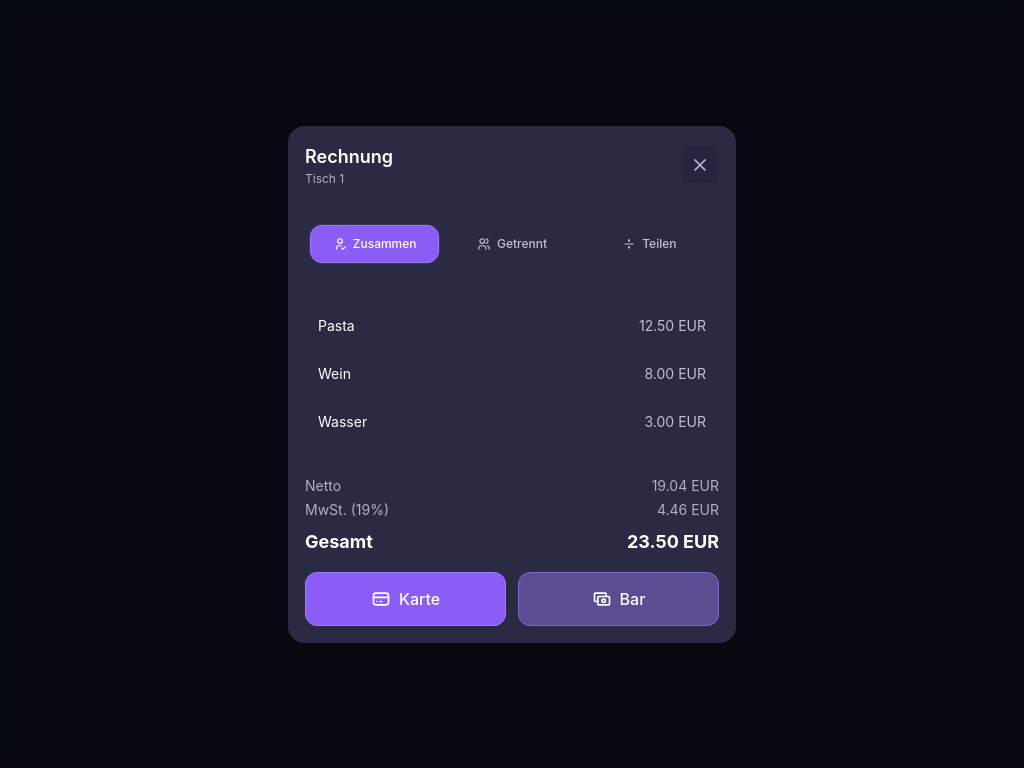
Test: Scenario 2 — Equal-split billing (2×11.75, mixed methods → close) › person 1 card + person 2 cash → "Alle bezahlt" screen
Expected: the text "23.50 EUR" is shown, [627,528,719,556]
What coordinates should you click on to do the following:
click the button "Teilen"
I would click on:
 (649, 244)
Its box is [585,224,714,262].
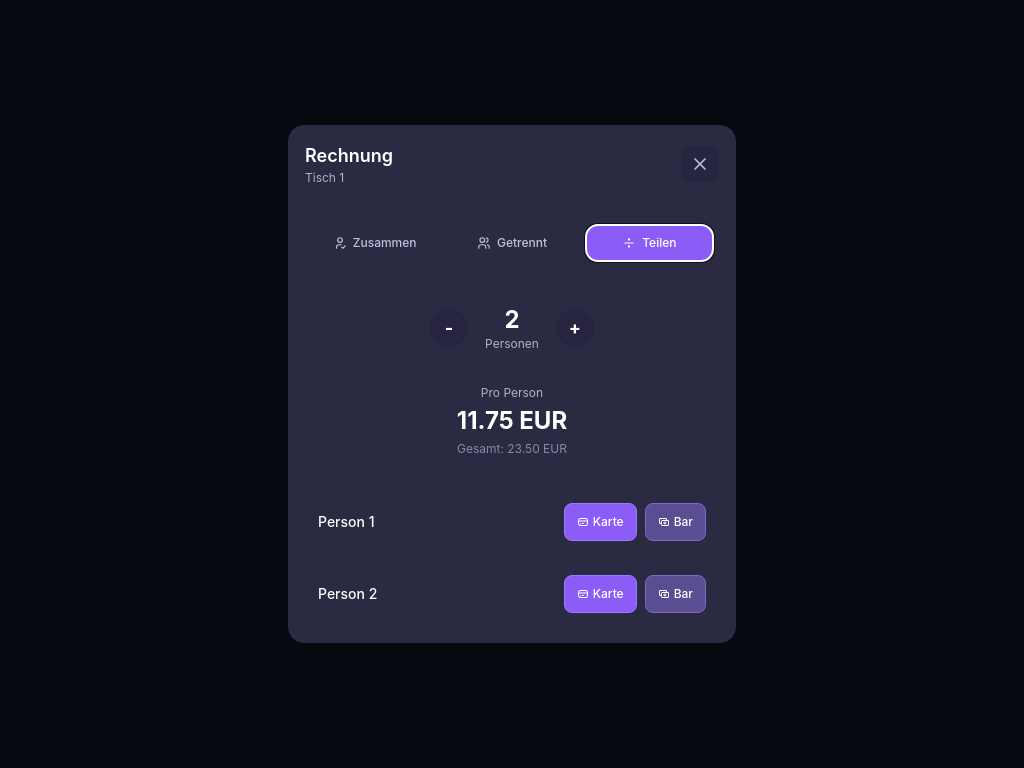
// Pay person 1 with card
What coordinates should you click on to do the following:
click the 1st button "Karte"
I would click on:
 (600, 522)
Its box is [564,503,637,541].
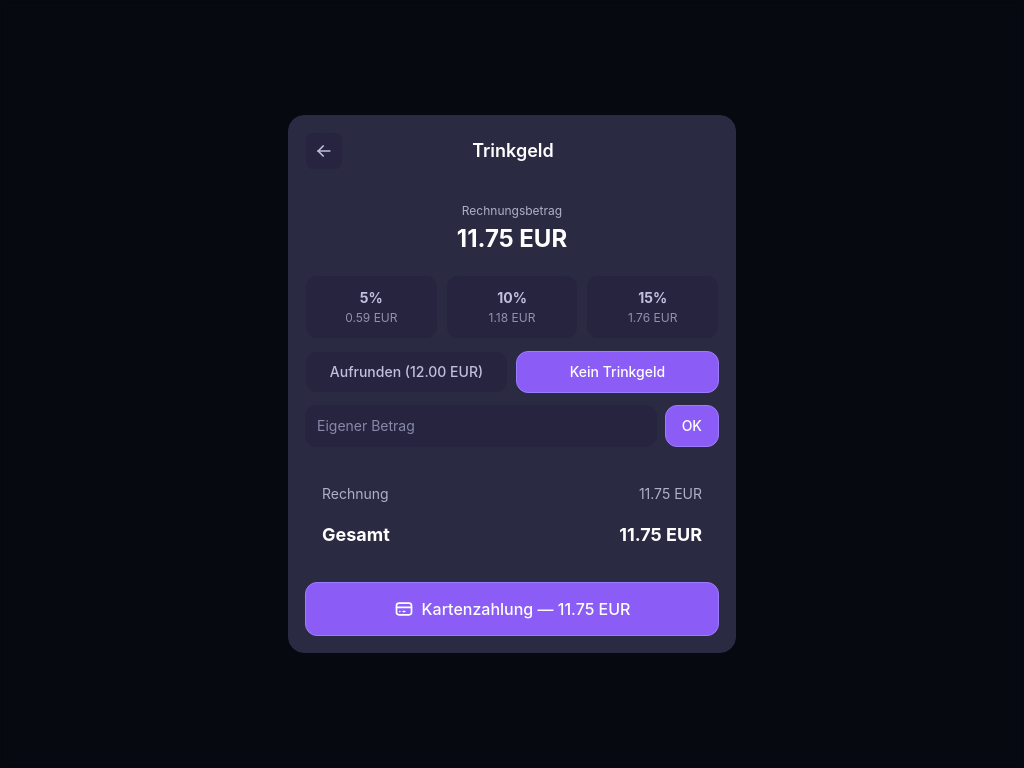
Now the heading "Trinkgeld" is shown, box [472,137,554,165]
// No tip — confirm
What coordinates should you click on to do the following:
click the button "Kartenzahlung — 11.75 EUR"
I would click on:
 (512, 609)
Its box is [305,582,719,636].
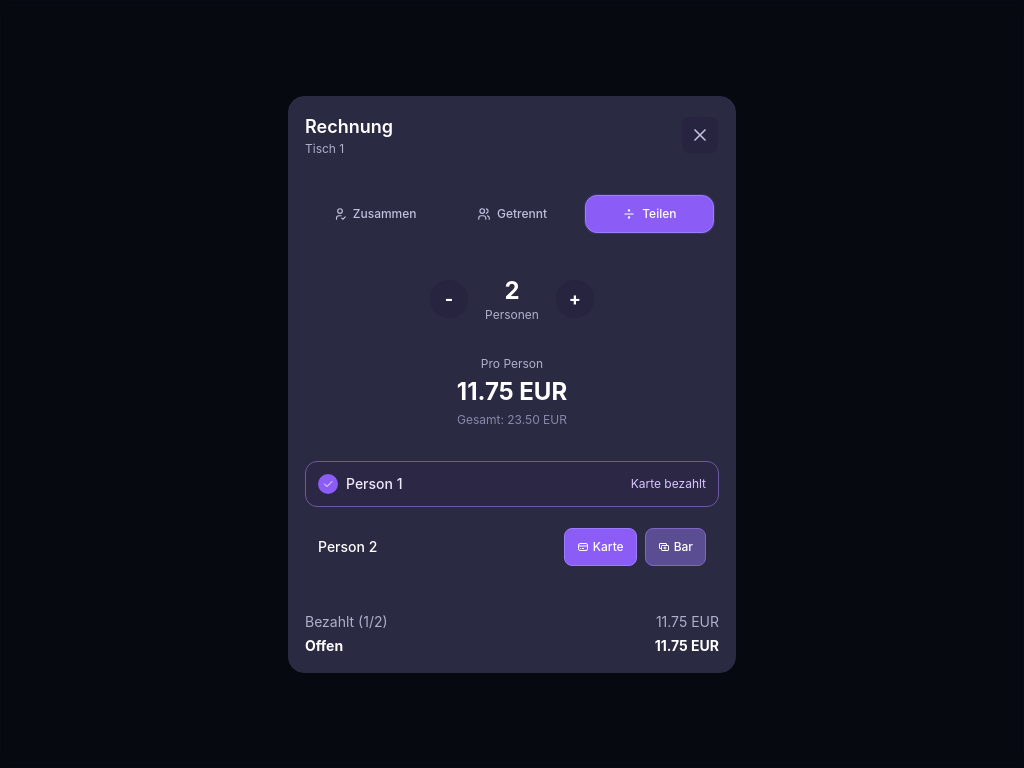
Now the text "Karte bezahlt" is shown, box [631,476,706,492]
// Pay person 2 with cash
What coordinates should you click on to do the following:
click the button "Bar"
I would click on:
 (675, 546)
Its box is [645,528,706,566].
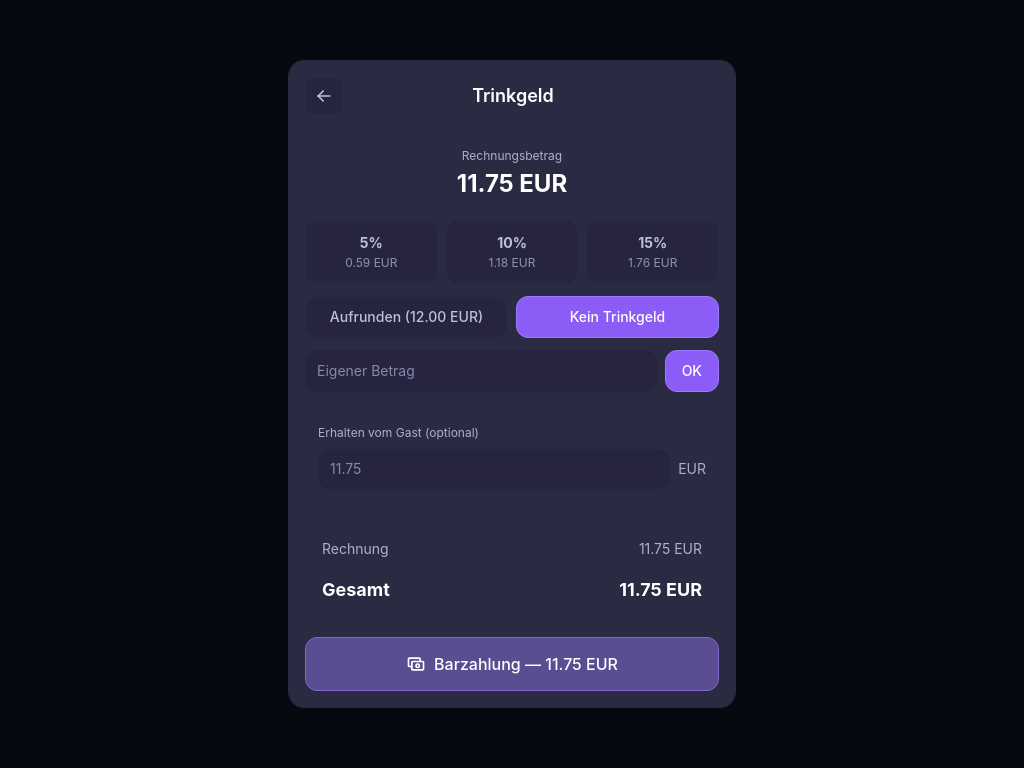
Now the heading "Trinkgeld" is shown, box [472,82,554,110]
What coordinates should you click on to do the following:
click the button "Barzahlung — 11.75 EUR"
I would click on:
 (512, 664)
Its box is [305,637,719,691].
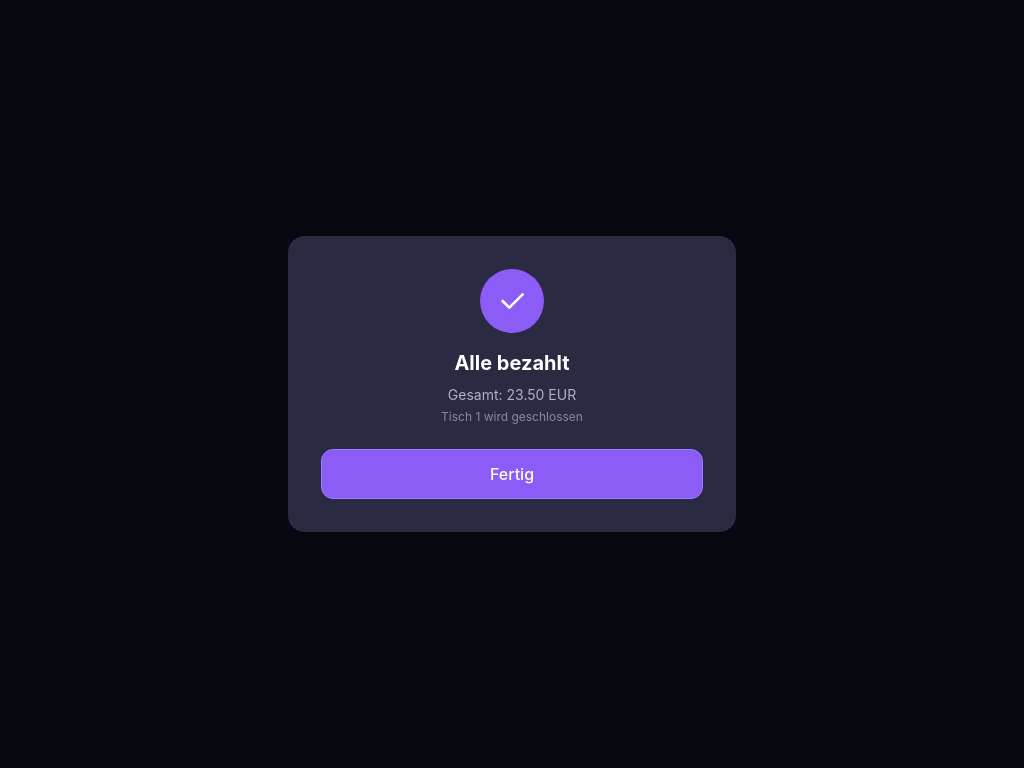
Now the heading "Alle bezahlt" is shown, box [454,351,570,375]
